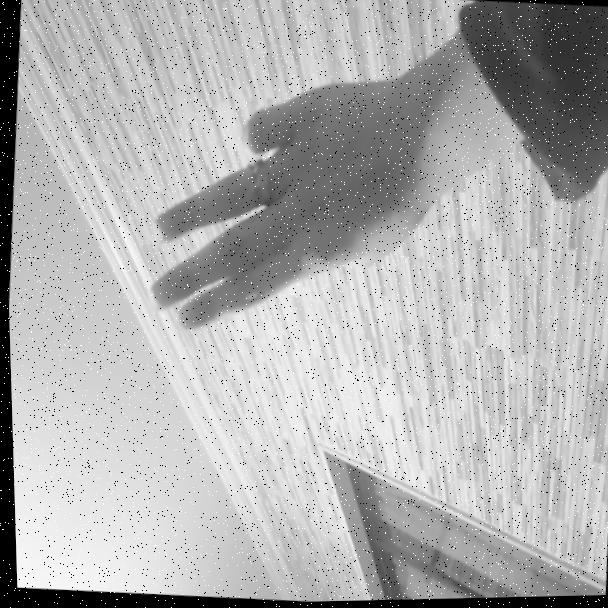five: (135, 62, 437, 358)
